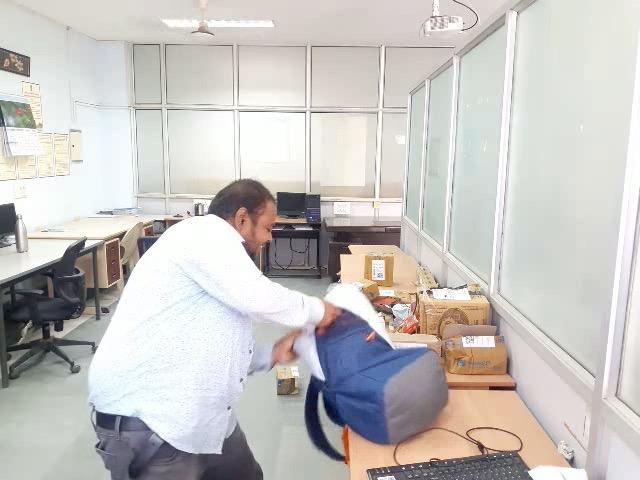shoplifting: (61, 174, 460, 444)
